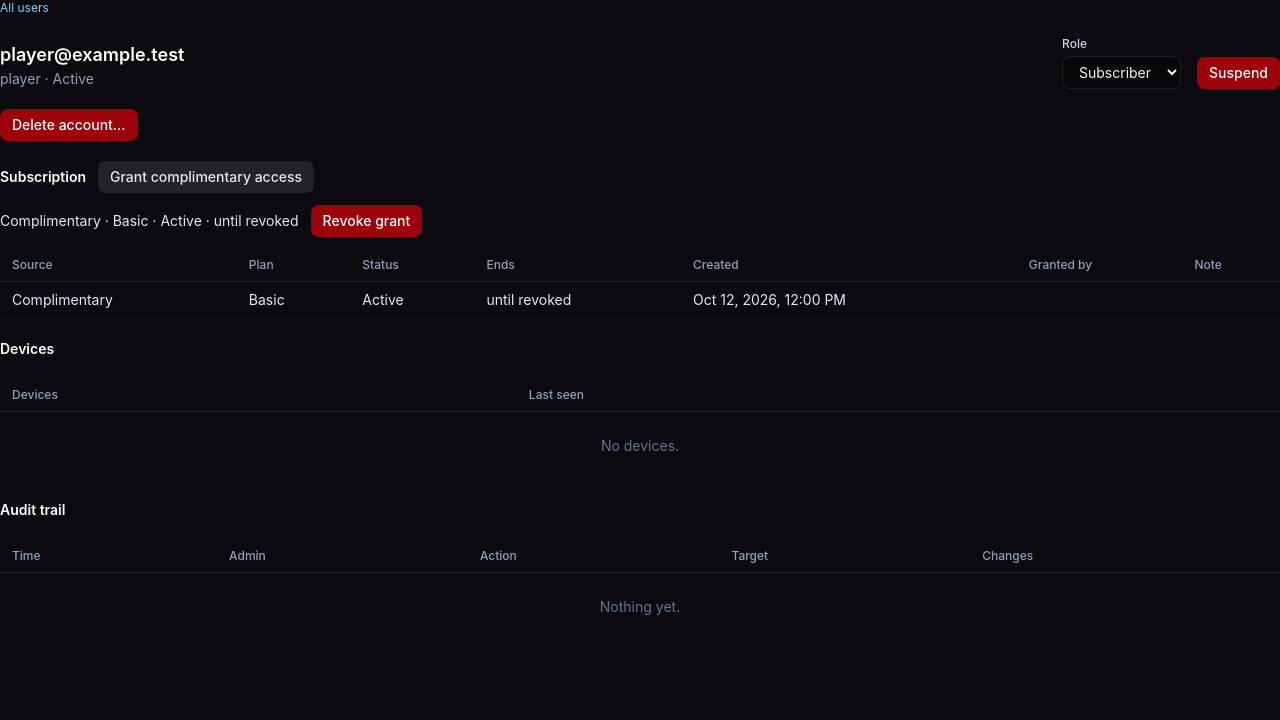
Test: revoke refusals (review) › a grant that already ended is explained, not a generic conflict
Click the button "Revoke grant": click(366, 221) [311,205,422,237]
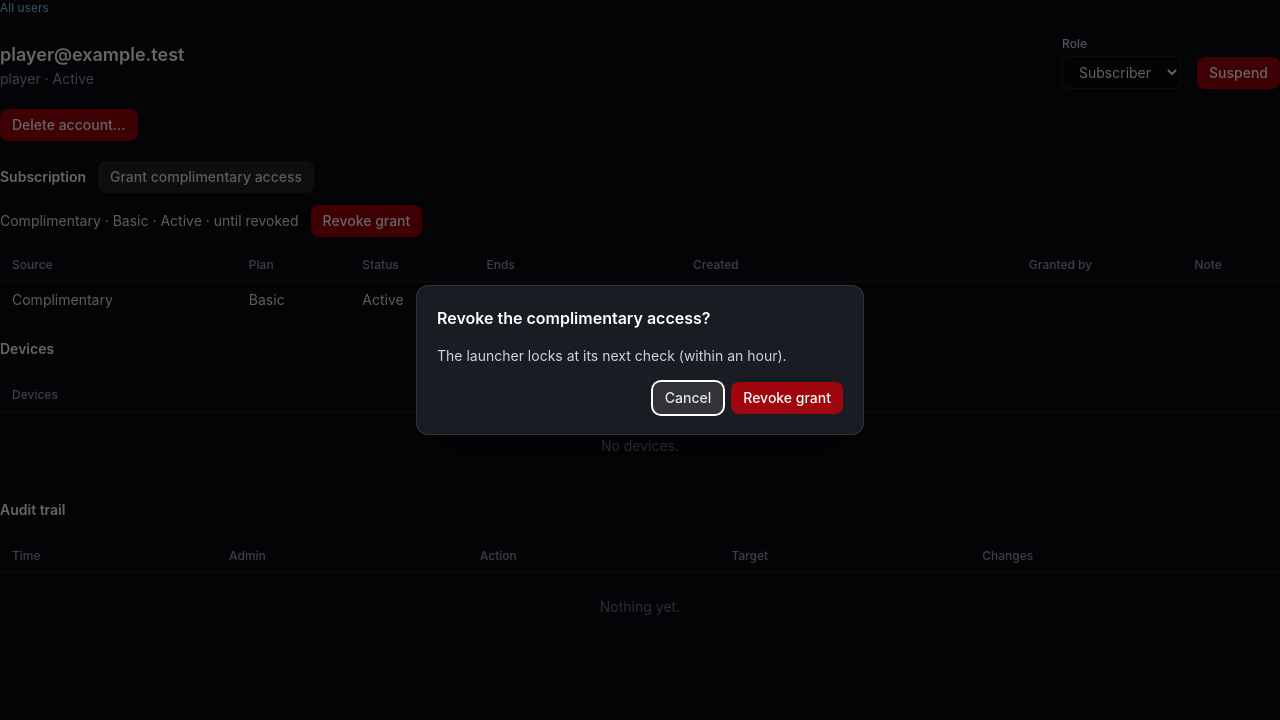
Click the button "Revoke grant": click(787, 398) [731,382,843,414]
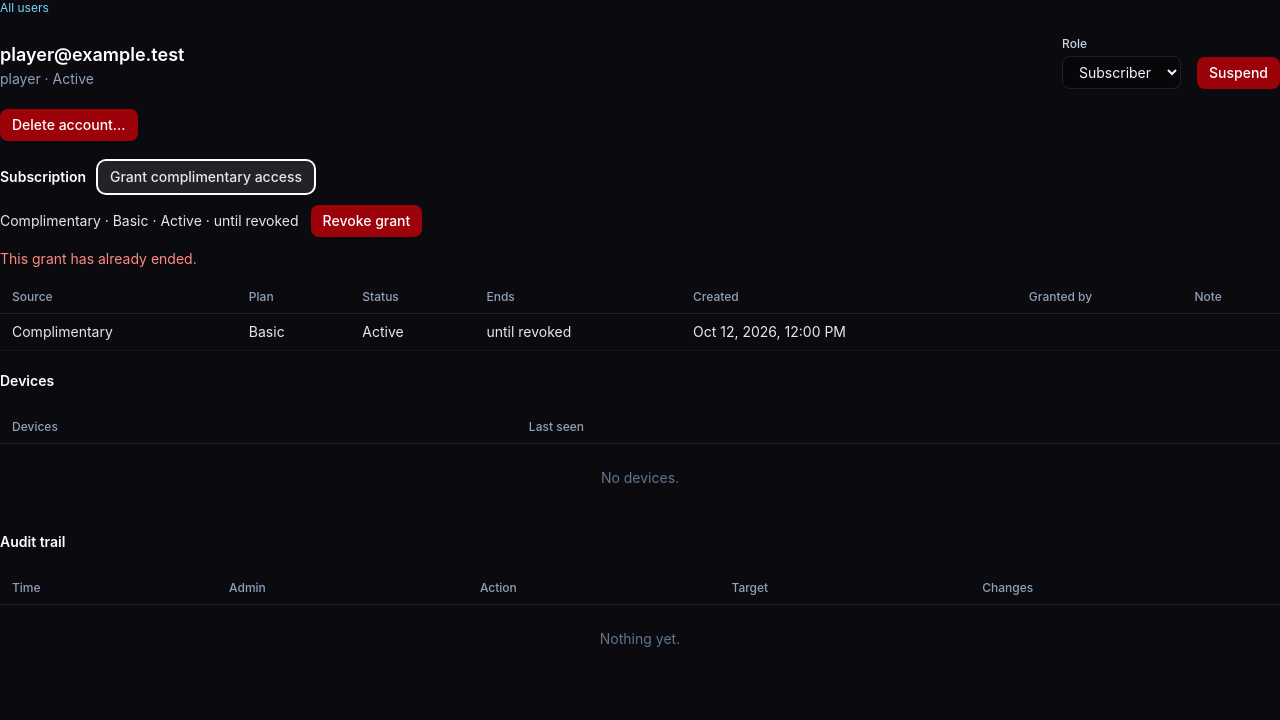
expect the message reads "This grant has already ended.": met, box [0,250,197,267]
